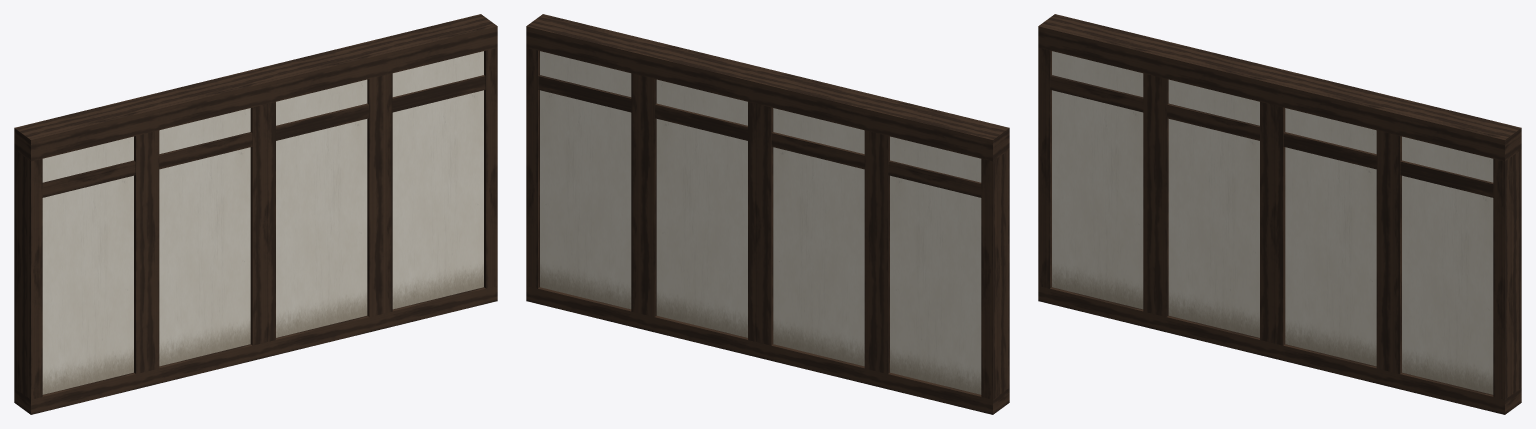
Rendered from HO_Wall_Plaster_Solid_16.fbx.
The picture shows the model from 3 angles, left to right: view 1: azimuth 30°, elevation 25°; view 2: azimuth 150°, elevation 25°; view 3: azimuth 330°, elevation 25°; orthographic projection.
Visible parts, largest first — view 1: HO_Wall_Plaster_Solid_16__Plaster_White, HO_Wall_Plaster_Solid_16__Timber_Dark; view 2: HO_Wall_Plaster_Solid_16__Plaster_White, HO_Wall_Plaster_Solid_16__Timber_Dark; view 3: HO_Wall_Plaster_Solid_16__Plaster_White, HO_Wall_Plaster_Solid_16__Timber_Dark.
Part boxes in pixels (x1,y1,x2,y2): HO_Wall_Plaster_Solid_16__Plaster_White: (42, 51, 483, 394); HO_Wall_Plaster_Solid_16__Timber_Dark: (14, 14, 497, 414); HO_Wall_Plaster_Solid_16__Plaster_White: (540, 51, 981, 394); HO_Wall_Plaster_Solid_16__Timber_Dark: (526, 14, 1009, 414); HO_Wall_Plaster_Solid_16__Plaster_White: (1052, 51, 1493, 394); HO_Wall_Plaster_Solid_16__Timber_Dark: (1038, 14, 1521, 414).
Bounding box in the file's own units: 16 × 9 × 1.
